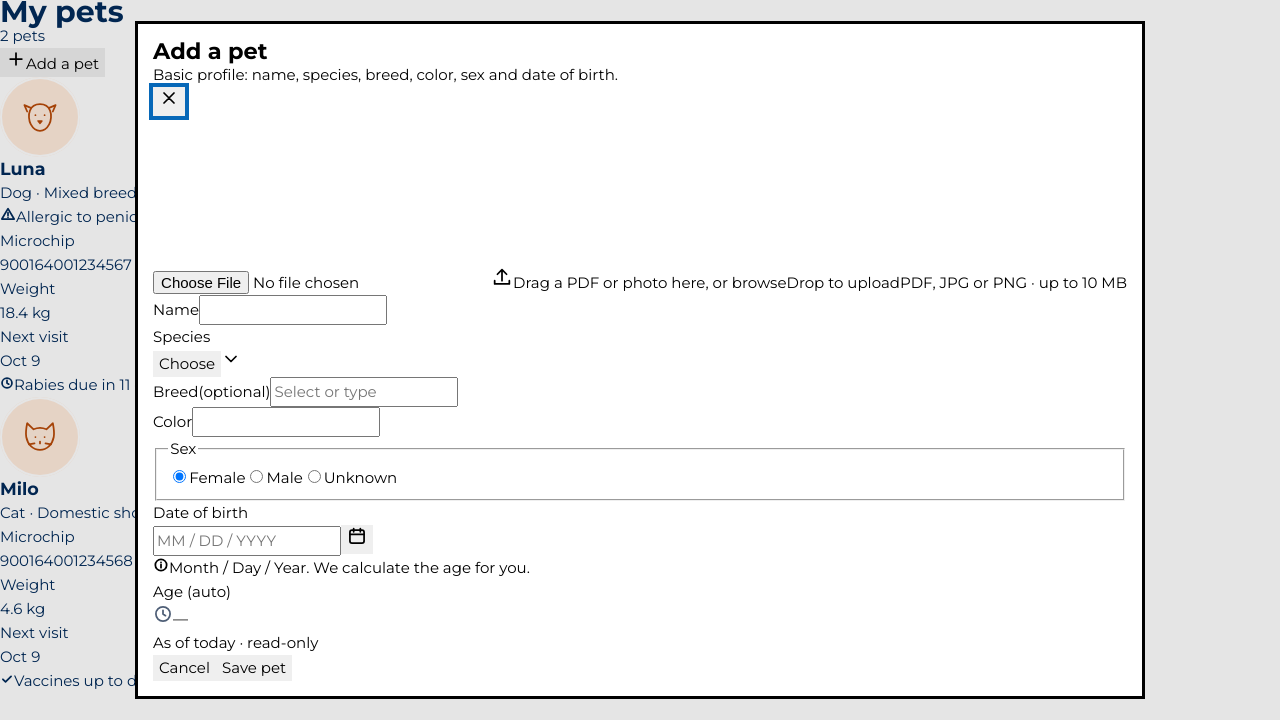
Test case: MyPets › works out the age while the date of birth is typed
Type "06152022" into the field labelled "Date of birth".
click(247, 541); type("06152022")  # box x1=153 y1=526 x2=341 y2=556
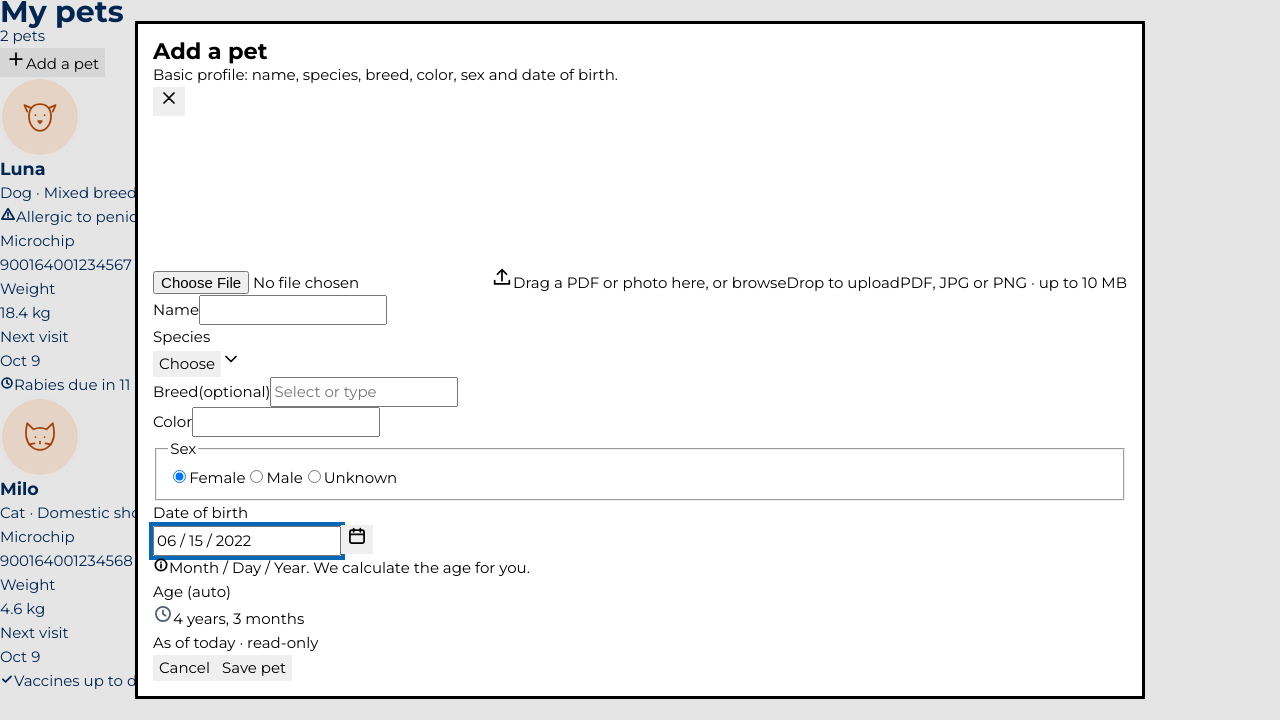
Expected: the text "4 years, 3 months" is shown, x1=153 y1=604 x2=304 y2=628
